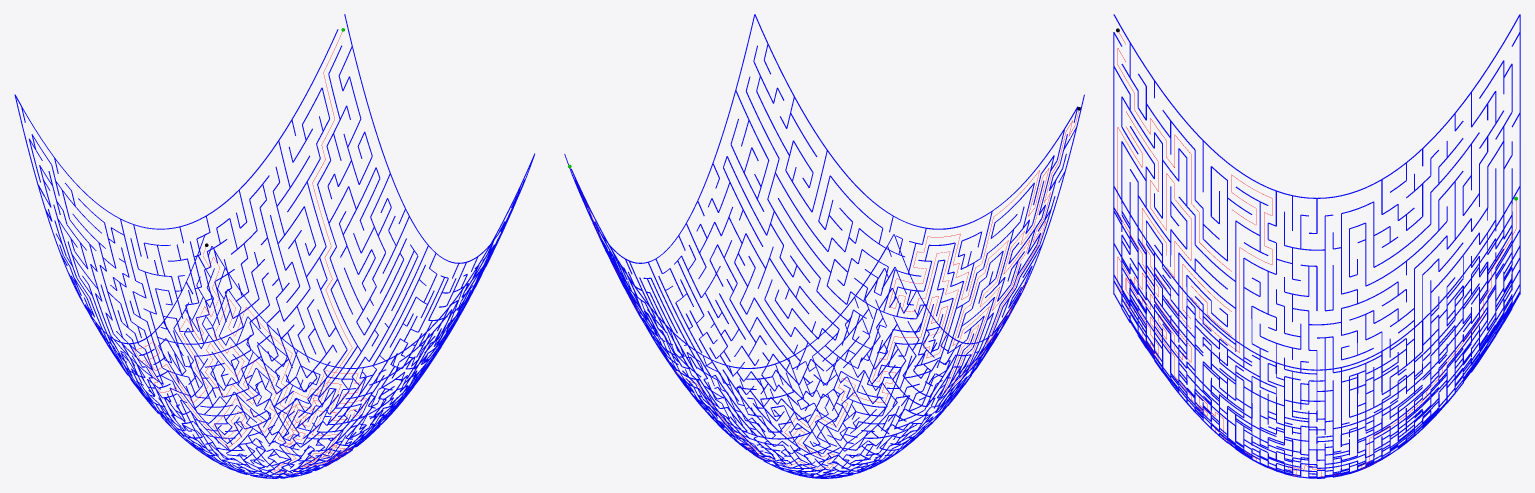
File: DirectionMaze.glb
The picture shows the model from 3 angles, left to right: view 1: azimuth 30°, elevation 25°; view 2: azimuth 150°, elevation 25°; view 3: azimuth 270°, elevation 25°; orthographic projection. The views are drawn at different scales.
Size of the model in its own units: 2.01 by 2 by 2.01.
